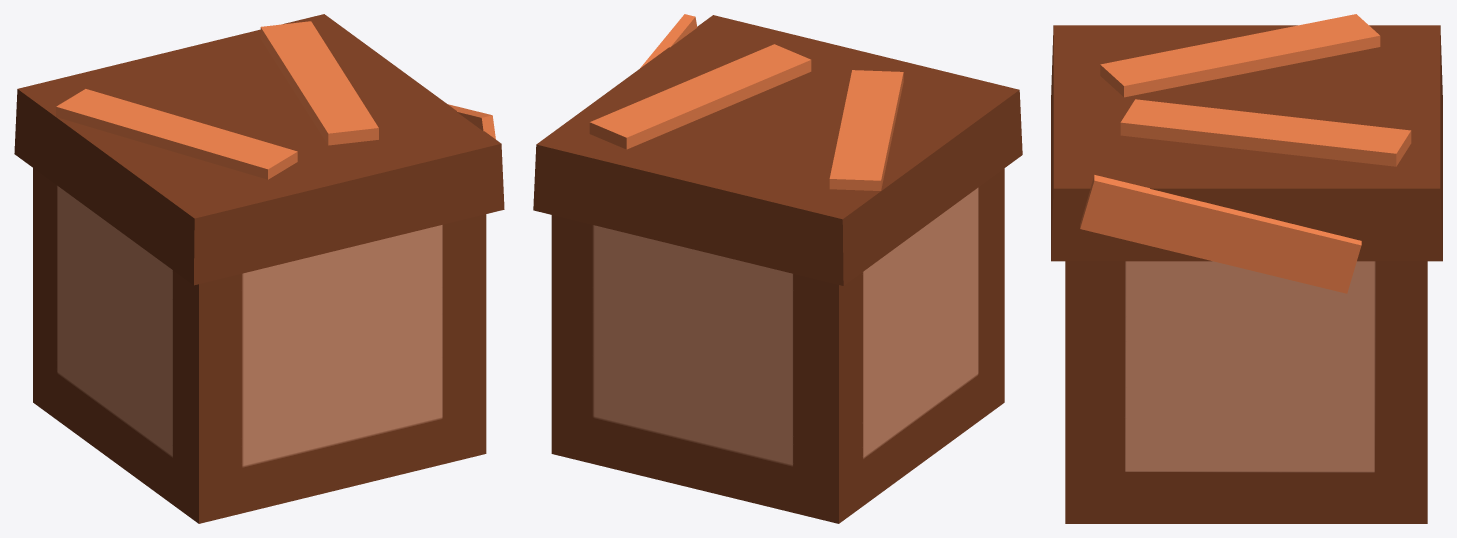
The model's file is Broken Crate.fbx.
3 renders of one model, left to right at view 1: azimuth 30°, elevation 25°; view 2: azimuth 150°, elevation 25°; view 3: azimuth 270°, elevation 25°, orthographic. The views are drawn at different scales.
Visible parts, largest first — view 1: Object001, Box001, Object002; view 2: Object001, Box001, Object002; view 3: Object001, Object002, Box001.
Part boxes in pixels (box(x1,y1,x2,y2)): Object001: box(14, 14, 504, 291); Box001: box(33, 170, 486, 464); Object002: box(33, 338, 486, 523); Object001: box(533, 14, 1022, 291); Box001: box(551, 170, 1004, 464); Object002: box(551, 338, 1004, 523); Object001: box(1051, 14, 1442, 341); Object002: box(1065, 397, 1427, 523); Box001: box(1065, 341, 1427, 396).
Size of the model in its own units: 14.45 by 14.19 by 14.09.
